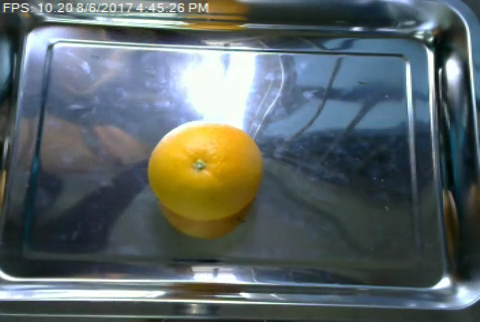Orange: (149, 119, 263, 221)
